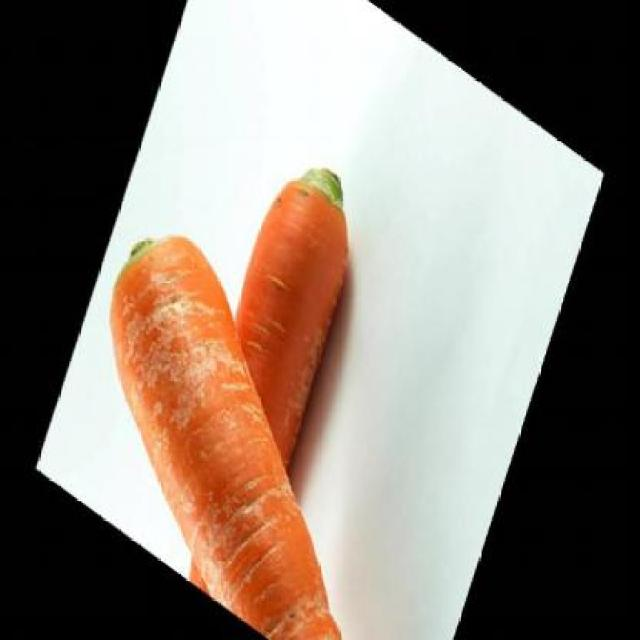carrot: (50, 198, 490, 638), (152, 134, 391, 626)
